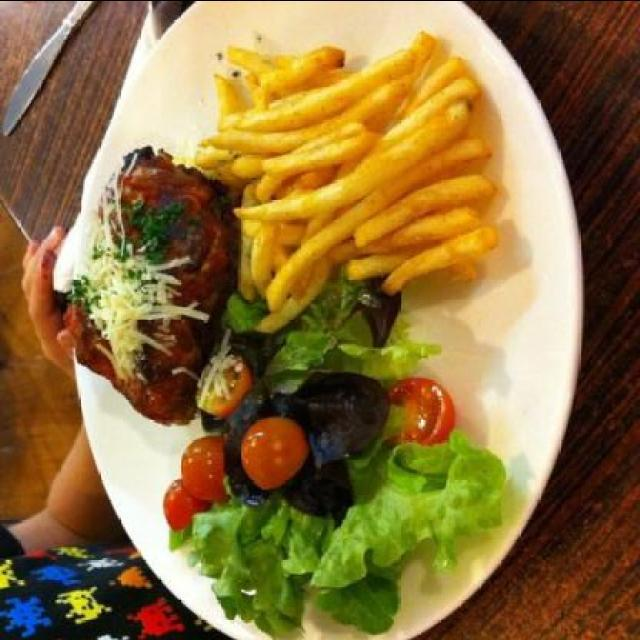Lasagna: (50, 150, 207, 426)
